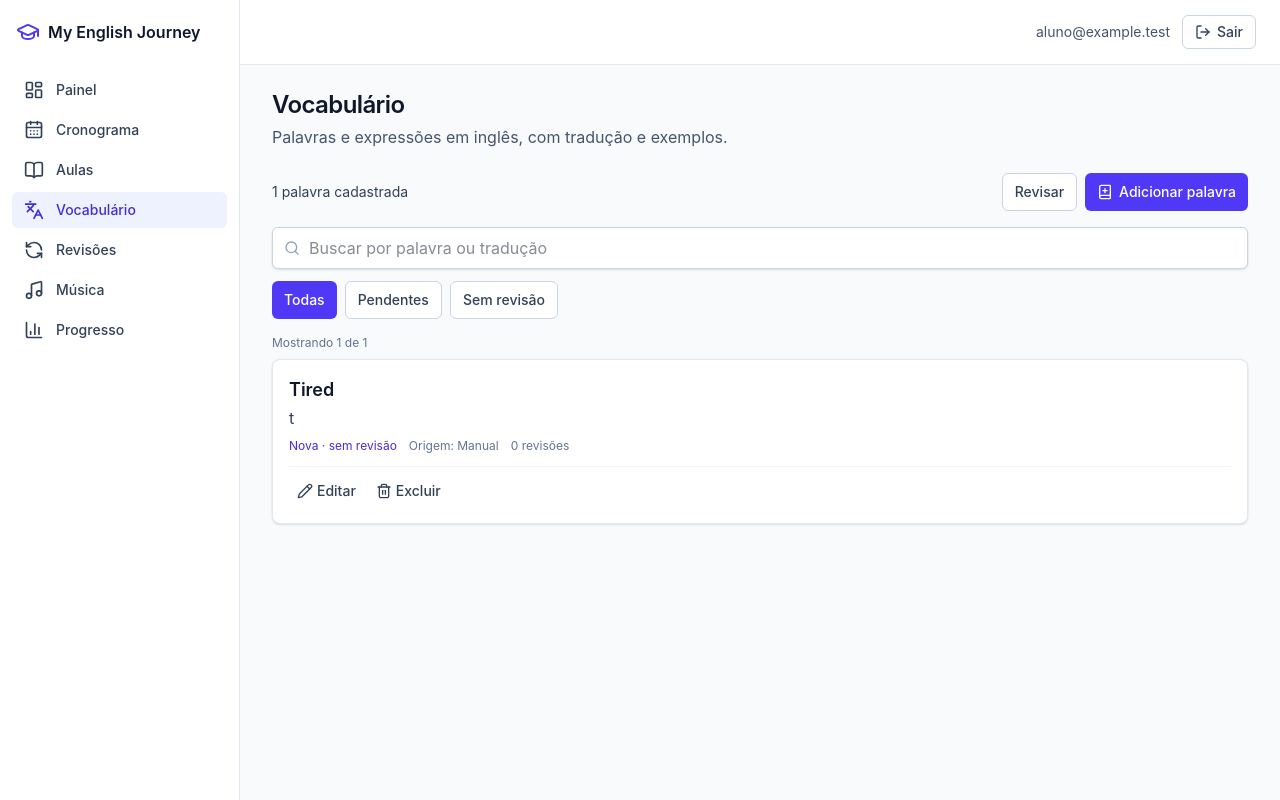
Test: /vocabulary › 2. duplicata mostra erro compreensível e mantém o formulário aberto
Click the button "Adicionar palavra" at [1167, 192], box [1085, 173, 1248, 211]
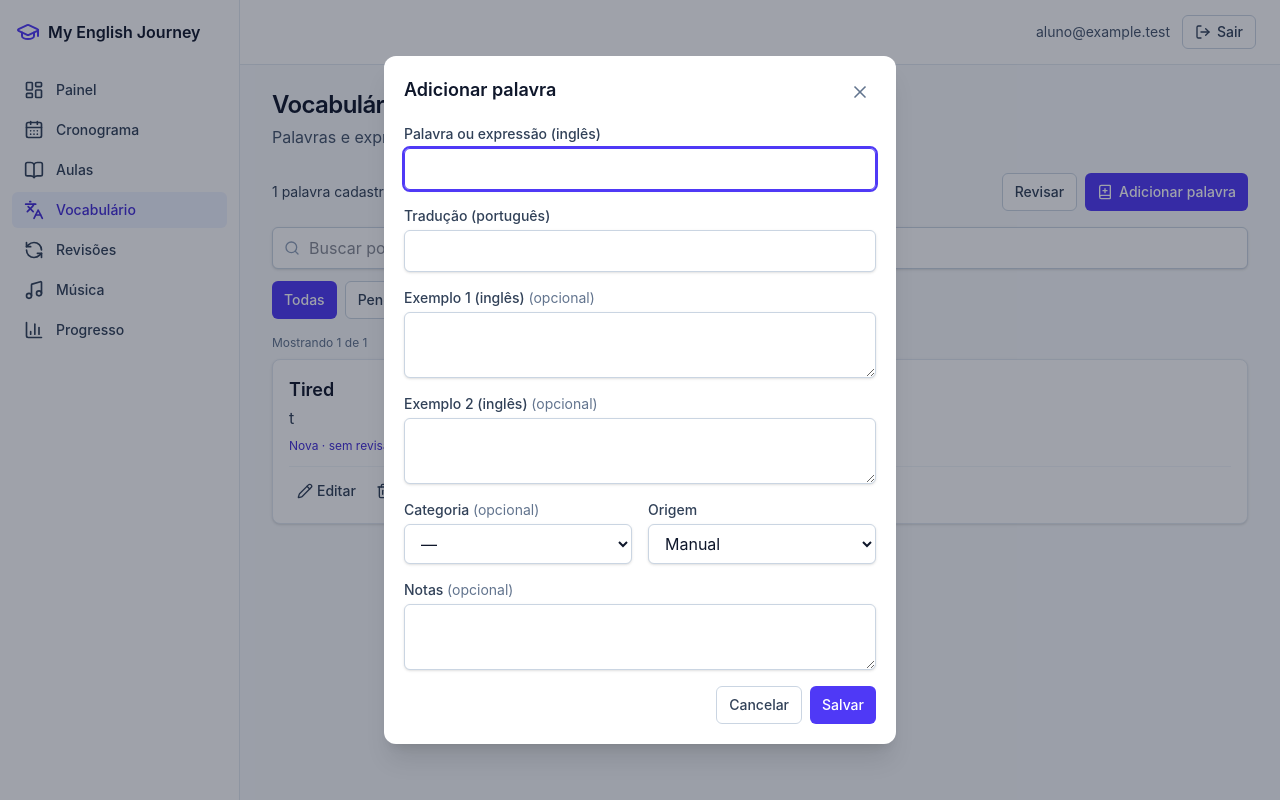
Type "tired" into the field labelled "Palavra ou expressão (inglês)" at [640, 169], box [404, 148, 876, 190]
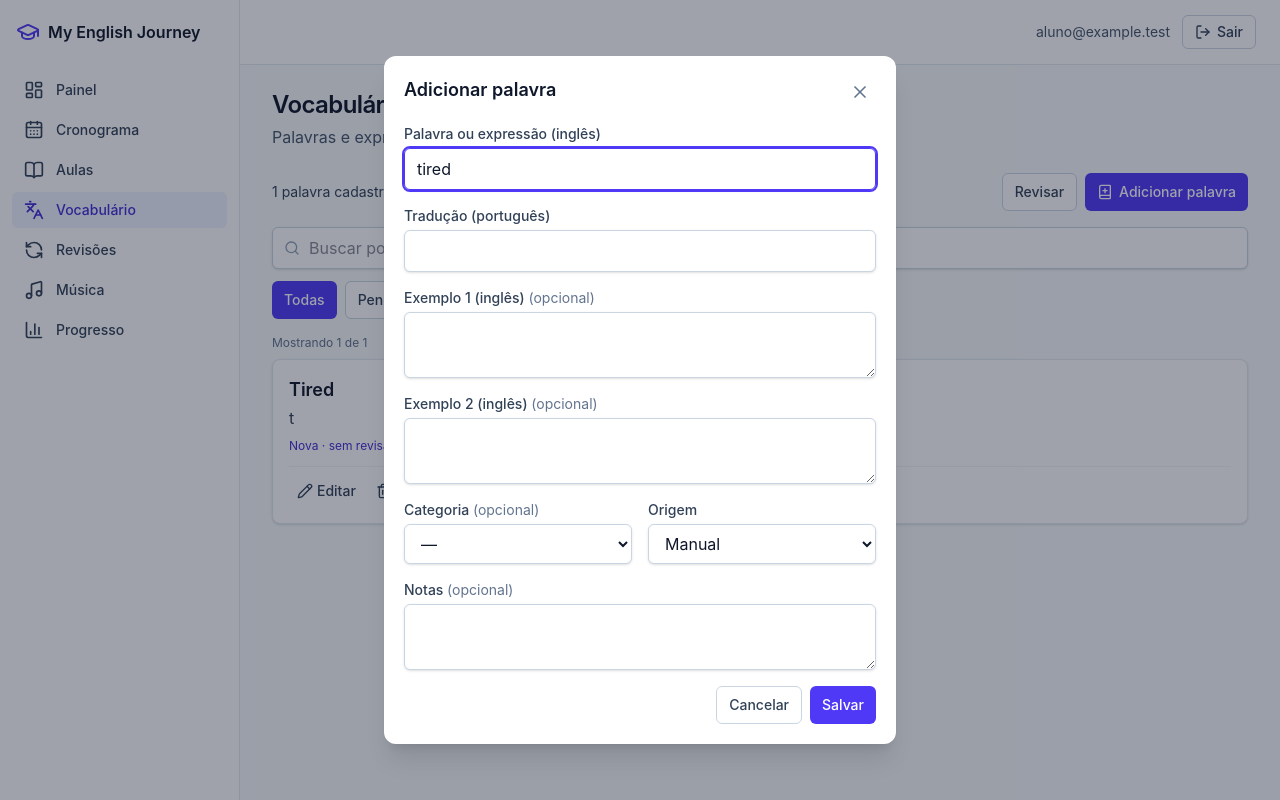
Type "x" into the field labelled "Tradução (português)" at [640, 251], box [404, 230, 876, 272]
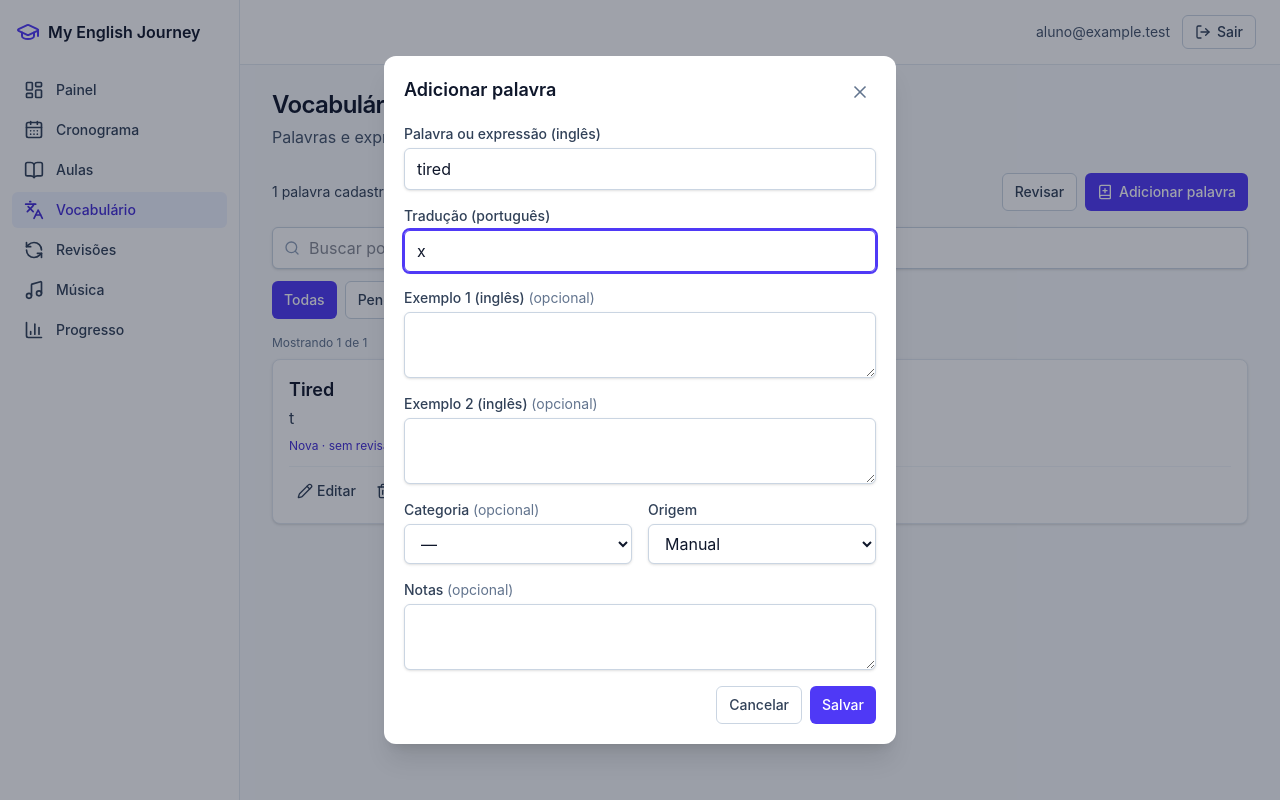
Type "a" into the text box labelled "Exemplo 1 (inglês) (opcional)" at [640, 345], box [404, 312, 876, 378]
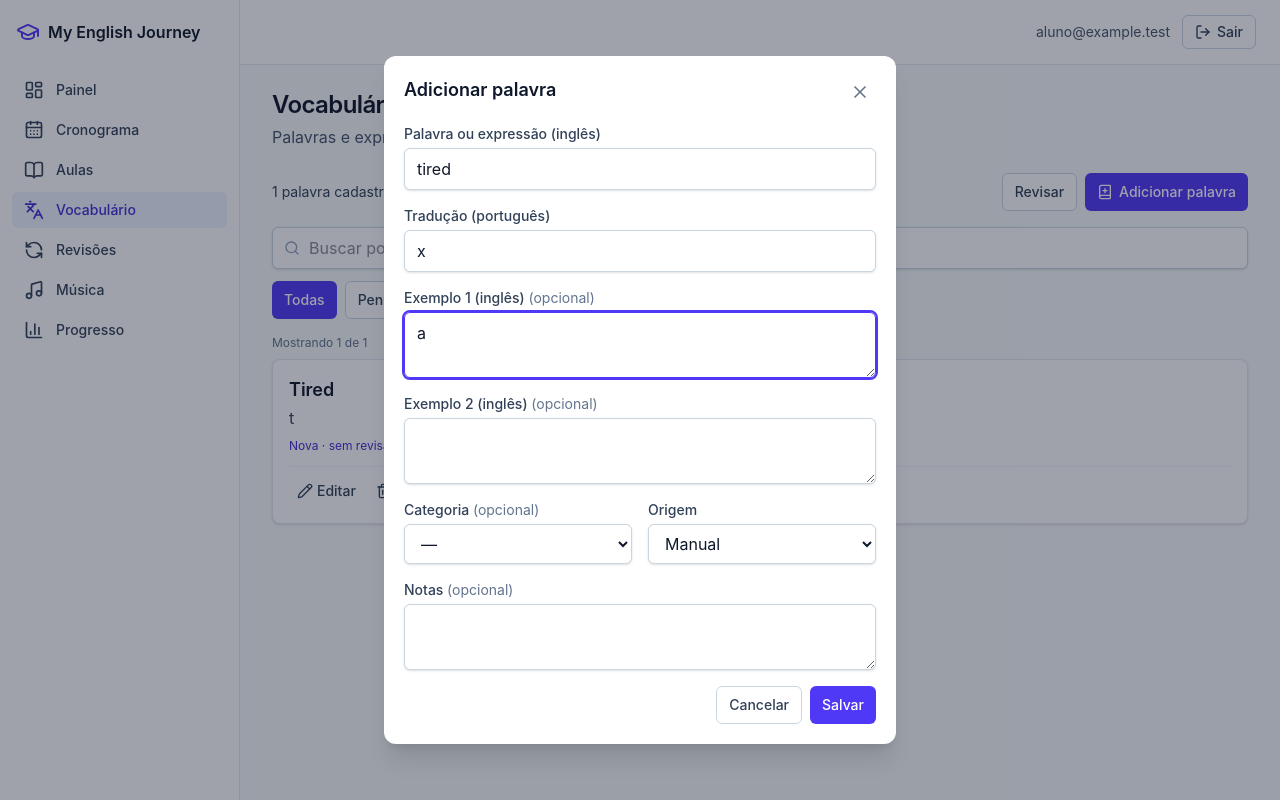
Type "b" into the text box labelled "Exemplo 2 (inglês) (opcional)" at [640, 451], box [404, 418, 876, 484]
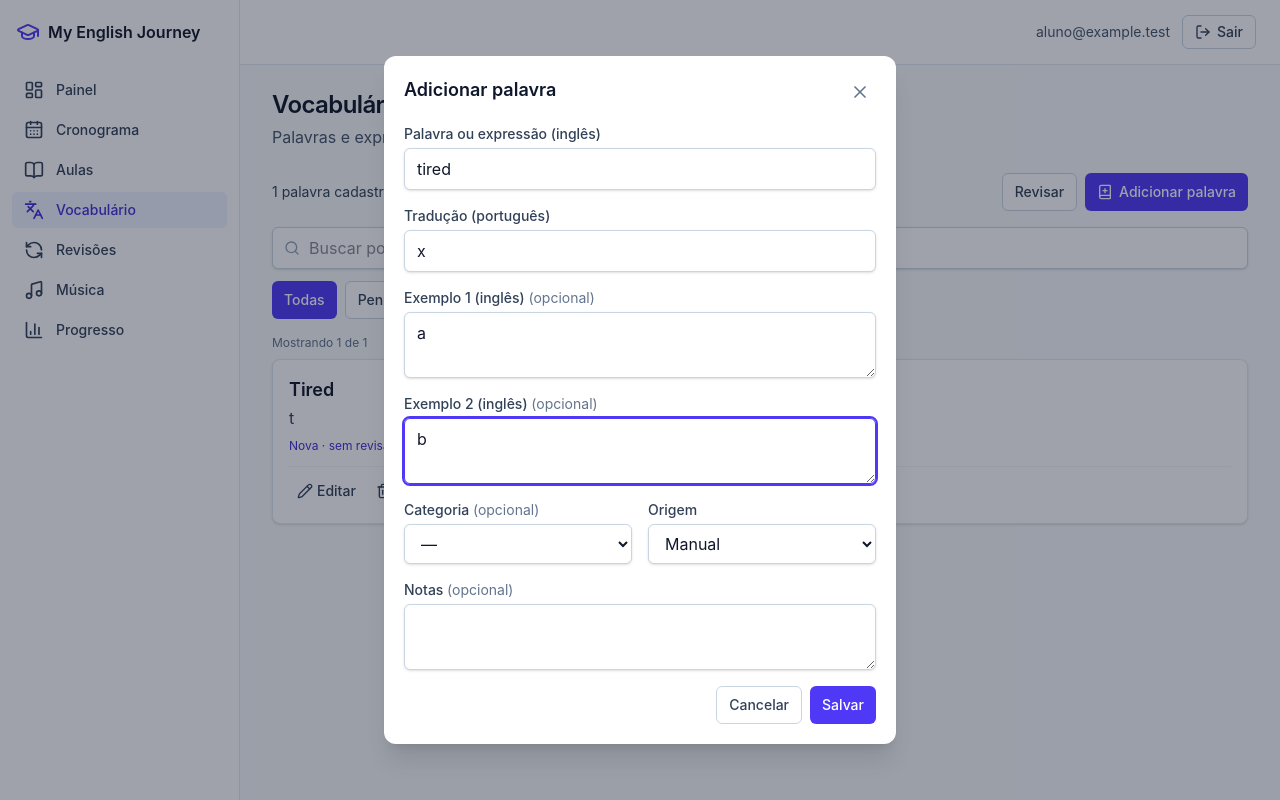
Click the button "Salvar" at [843, 705], box [810, 686, 876, 724]
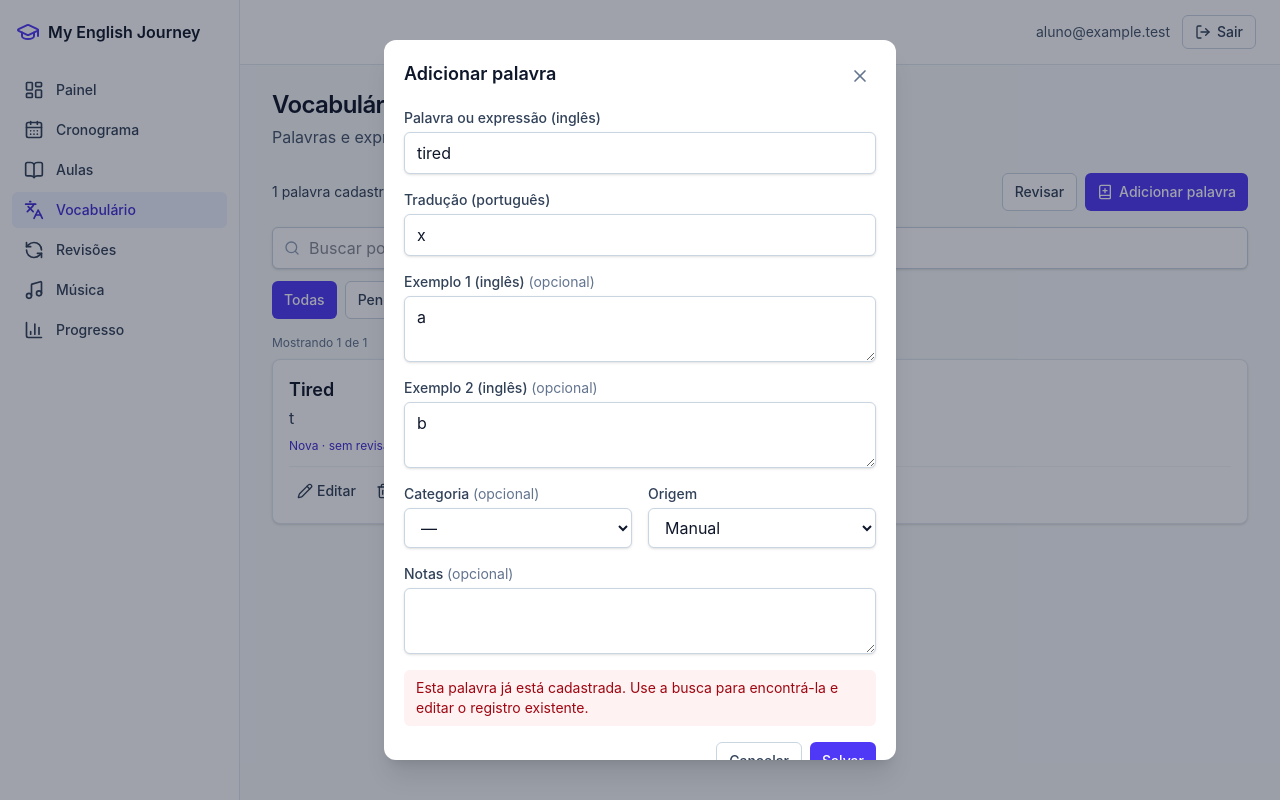
expect the dialog is shown: met, box [384, 40, 896, 760]
expect the message shows "já está cadastrada": met, box [416, 679, 838, 716]
